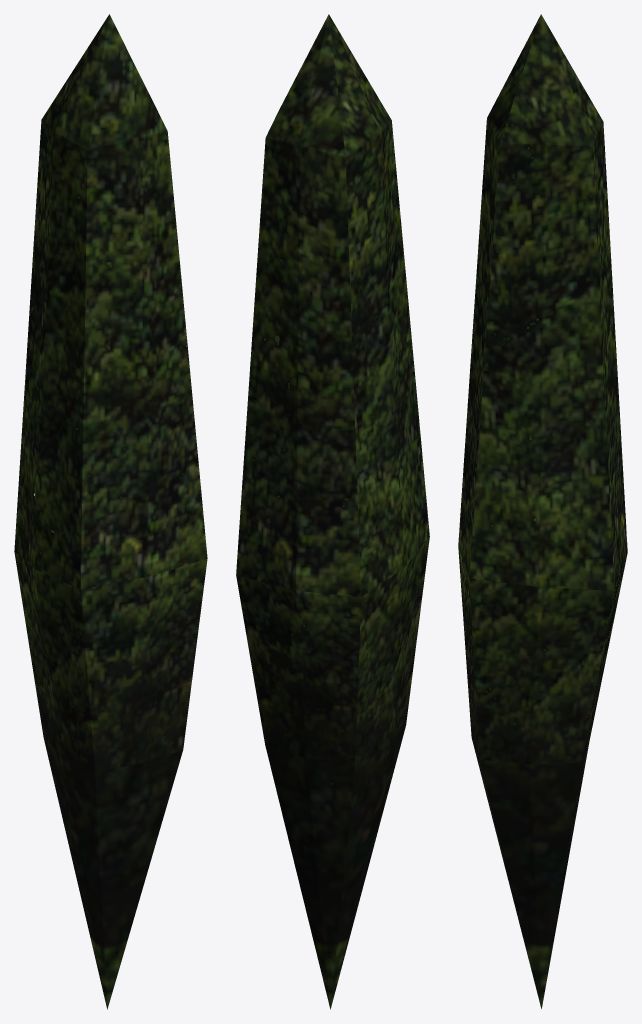
File: cypress_med.glb
The picture shows the model from 3 angles, left to right: view 1: azimuth 30°, elevation 25°; view 2: azimuth 150°, elevation 25°; view 3: azimuth 270°, elevation 25°; orthographic projection.
Size of the model in its own units: 1.66 by 10.75 by 1.66.
1 material, 1 textured.
